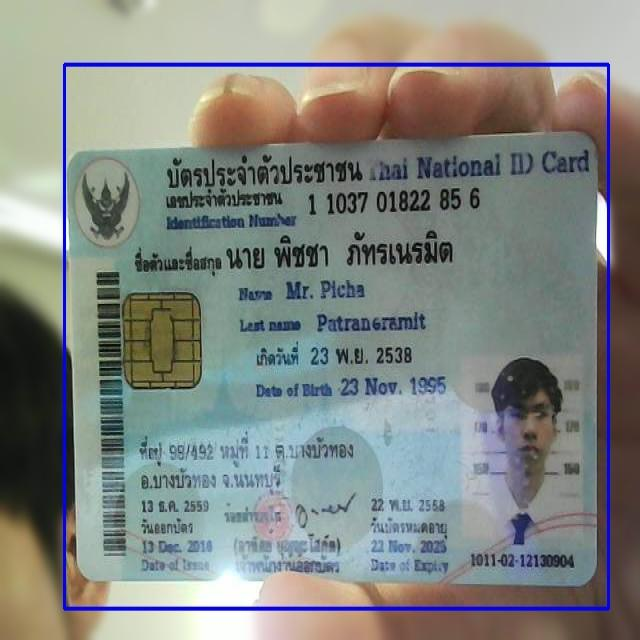Address_th: (130, 424, 373, 498)
Date_of_Birth: (337, 372, 450, 404)
Date_of_Expiry: (368, 534, 453, 560)
Date_of_Issue: (140, 535, 216, 558)
First_Name: (282, 274, 368, 304)
ID_Number: (305, 186, 487, 219)
Image: (465, 358, 581, 543)
Last_Name: (314, 308, 430, 337)
Thai_Name: (224, 230, 469, 277)
